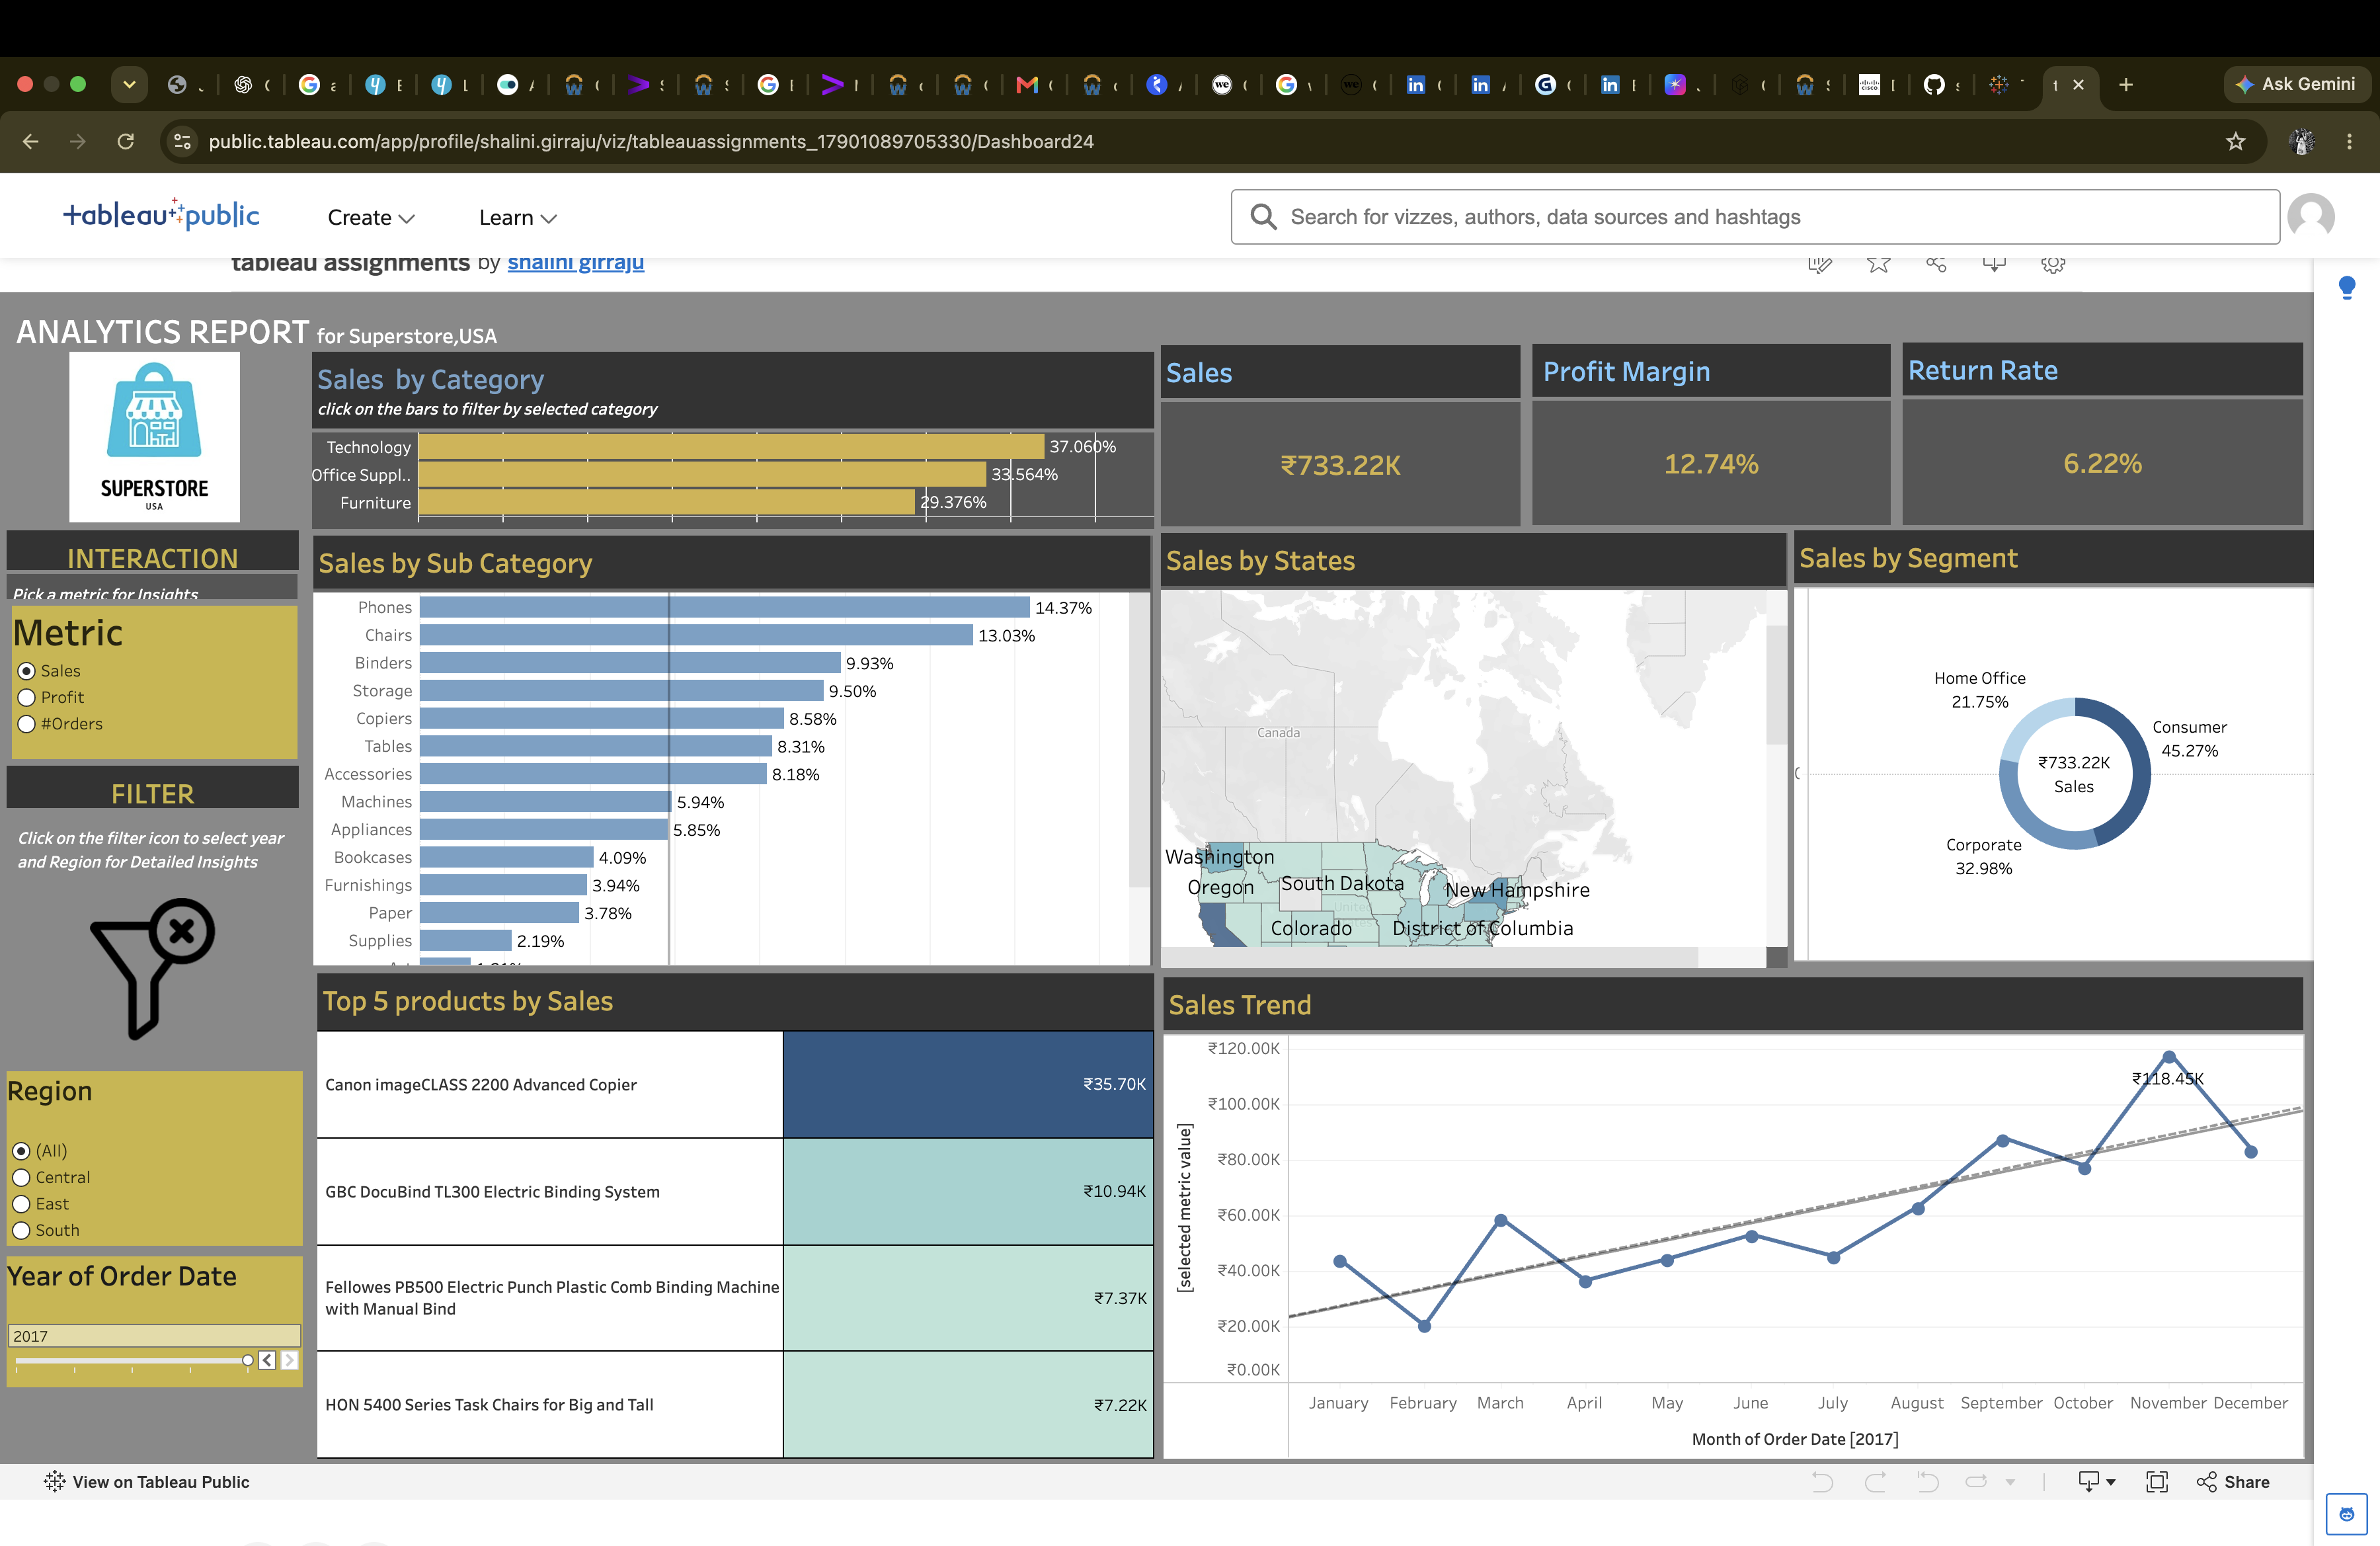

The page's visual inventory and layout, read from the dashboard file:
{"tool":"tableau","page":{"name":"Dashboard 2 (4)","canvas":[1000,1000],"units":"permille","ordinal":1},"visuals":[{"type":"title","box":[5.2,7.7,989.7,39.6]},{"type":"worksheet","title":"Return rate kpi","mark":"Automatic","box":[822.2,42.6,173.4,155.7]},{"type":"worksheet","title":"Profit margin kpi","mark":"Automatic","box":[662.5,43.5,154.7,154.7]},{"type":"worksheet","title":"selected metric kpi","mark":"Automatic","box":[501.6,45.5,155.3,154.7]},{"type":"worksheet","title":"cate barchart","mark":"Bar","rows":["Category"],"cols":["Calculation_1961439272747020"],"box":[134.8,50.3,364.3,151.8]},{"type":"image","param":"Image/Picture 1.jpg","box":[1.9,51.3,130.4,145.1]},{"type":"worksheet","title":"Interaction","mark":"Automatic","box":[3.1,203.1,126.6,33.9]},{"type":"worksheet","title":"map","mark":"Automatic","box":[501.6,205,270.7,371.4]},{"type":"worksheet","title":"sub barchart","mark":"Bar","rows":["Sub-Category"],"cols":["Calculation_1961439272747020"],"box":[134.8,206,364.3,369.4]},{"type":"worksheet","title":"text","mark":"Automatic","box":[3.1,240.8,126,21.3]},{"type":"parameter","param":"[Parameters].[Parameter 1961439272505355]","box":[5,267.9,123.5,130.6]},{"type":"worksheet","title":"filter","mark":"Automatic","box":[3.1,404.3,126.6,35.8]},{"type":"worksheet","title":"text1","mark":"Automatic","box":[5,447.8,124.1,66.7]},{"type":"dashboard-object","box":[9.1,517.4,114.5,122.8]},{"type":"worksheet","title":"top 5","mark":"Square","rows":["Product Name"],"box":[137.2,581.2,361.8,413.9]},{"type":"worksheet","title":"Line chart","mark":"Line","rows":["Calculation_1961439272747020","Calculation_1961439272747020"],"cols":["Order Date"],"box":[502.8,584.1,493.4,411]},{"type":"filter","title":"cate barchart","param":"[federated.1jsj6at0c3t2xh16i86hc1buvyha].[none:Region:nk]","box":[5.8,651.8,123.2,145.1]},{"type":"filter","title":"cate barchart","param":"[federated.1jsj6at0c3t2xh16i86hc1buvyha].[yr:Order Date:ok]","box":[6.3,803.7,122.8,181.8]}]}

Visuals, with their boxes on the dashboard's canvas, which has no fixed pixel size, in thousandths of its width and height (x1, y1, x2, y2). These are canvas units, not pixel positions in the 2380x1546 screenshot, which may show the page scaled, cropped or inside an application window:
title: 5, 8, 995, 47
"Return rate kpi" worksheet: 822, 43, 996, 198
"Profit margin kpi" worksheet: 662, 44, 817, 198
"selected metric kpi" worksheet: 502, 46, 657, 200
"cate barchart" worksheet (Bar marks): 135, 50, 499, 202
image: 2, 51, 132, 196
"Interaction" worksheet: 3, 203, 130, 237
"map" worksheet: 502, 205, 772, 576
"sub barchart" worksheet (Bar marks): 135, 206, 499, 575
"text" worksheet: 3, 241, 129, 262
parameter: 5, 268, 128, 398
"filter" worksheet: 3, 404, 130, 440
"text1" worksheet: 5, 448, 129, 514
dashboard-object: 9, 517, 124, 640
"top 5" worksheet (Square marks): 137, 581, 499, 995
"Line chart" worksheet (Line marks): 503, 584, 996, 995
"cate barchart" filter: 6, 652, 129, 797
"cate barchart" filter: 6, 804, 129, 986
